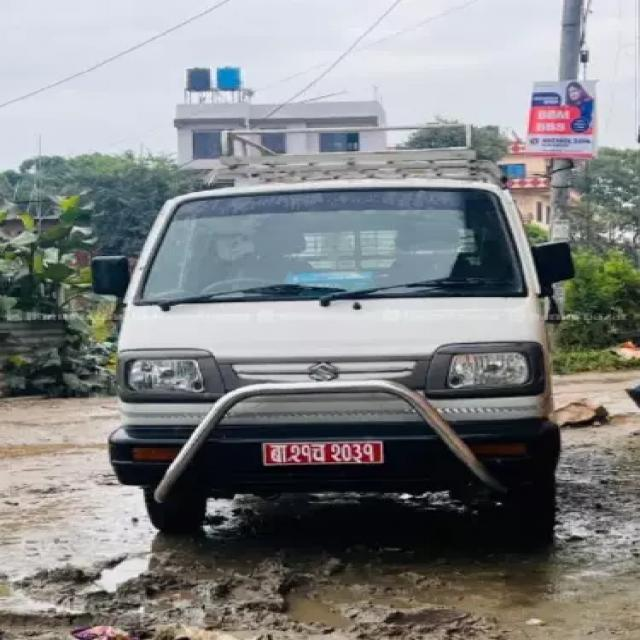License-plate: (251, 437, 393, 466)
